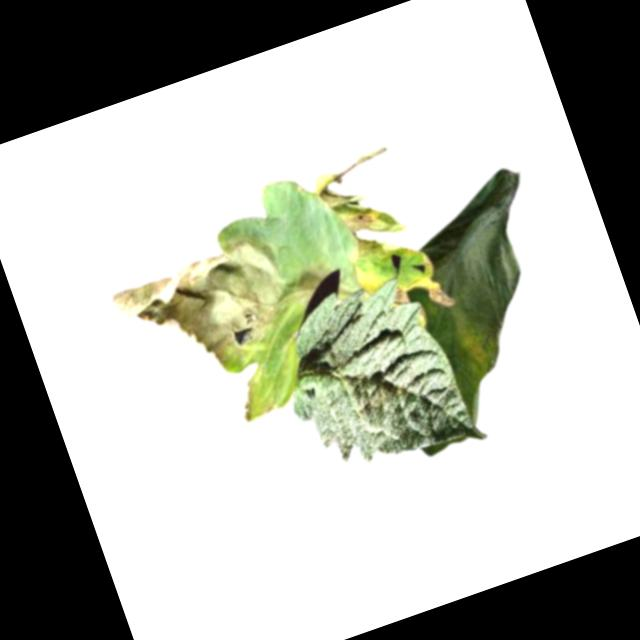Late_blight: (377, 161, 595, 435), (107, 230, 302, 395), (312, 141, 419, 270), (414, 248, 457, 312), (232, 369, 282, 424), (288, 257, 342, 305), (389, 281, 411, 306)
healthy: (260, 259, 490, 496)
